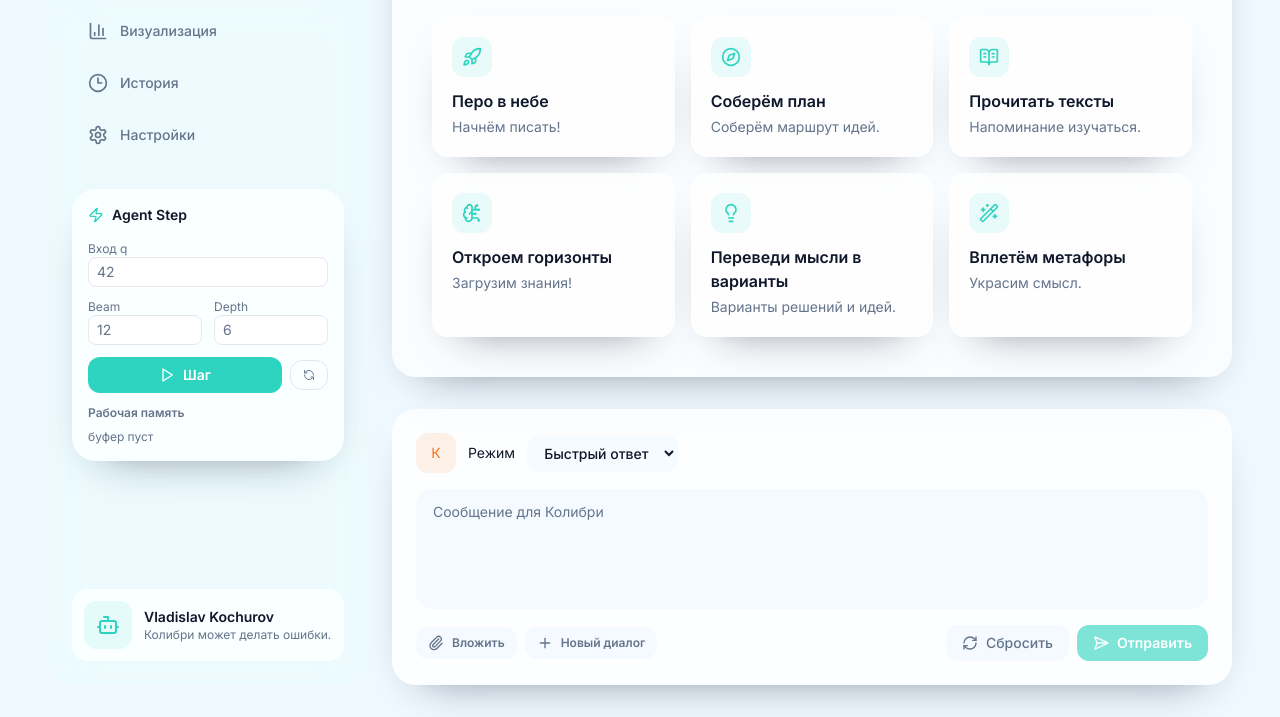
Test: App contextual retrieval › prepends retrieved context to the prompt and surfaces it in the UI
The image size is (1280, 717).
(page scrolled)
Type "Что такое Kolibri?" into the text box with placeholder "Сообщение для Колибри" at (812, 549), box left=416, top=489, right=1208, bottom=609
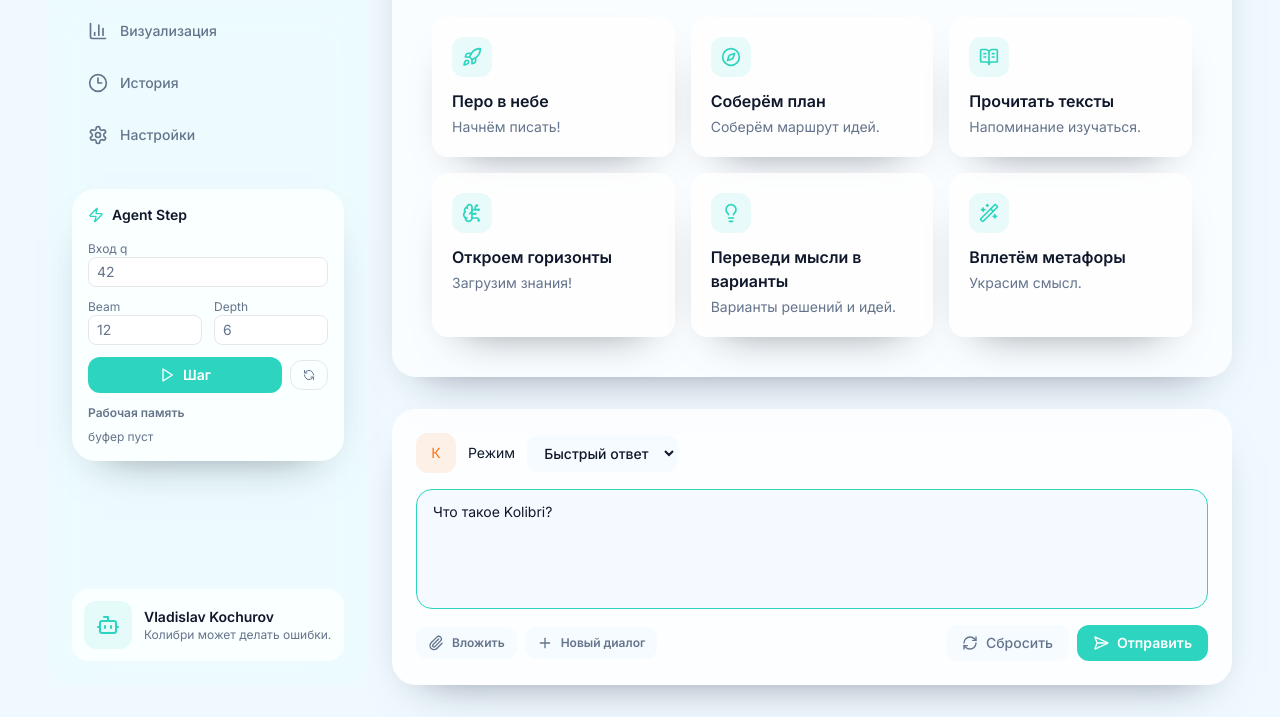
Expected: the button "Отправить" is enabled
Click the button "Отправить" at (1142, 643), box left=1077, top=625, right=1208, bottom=661
(page scrolled)
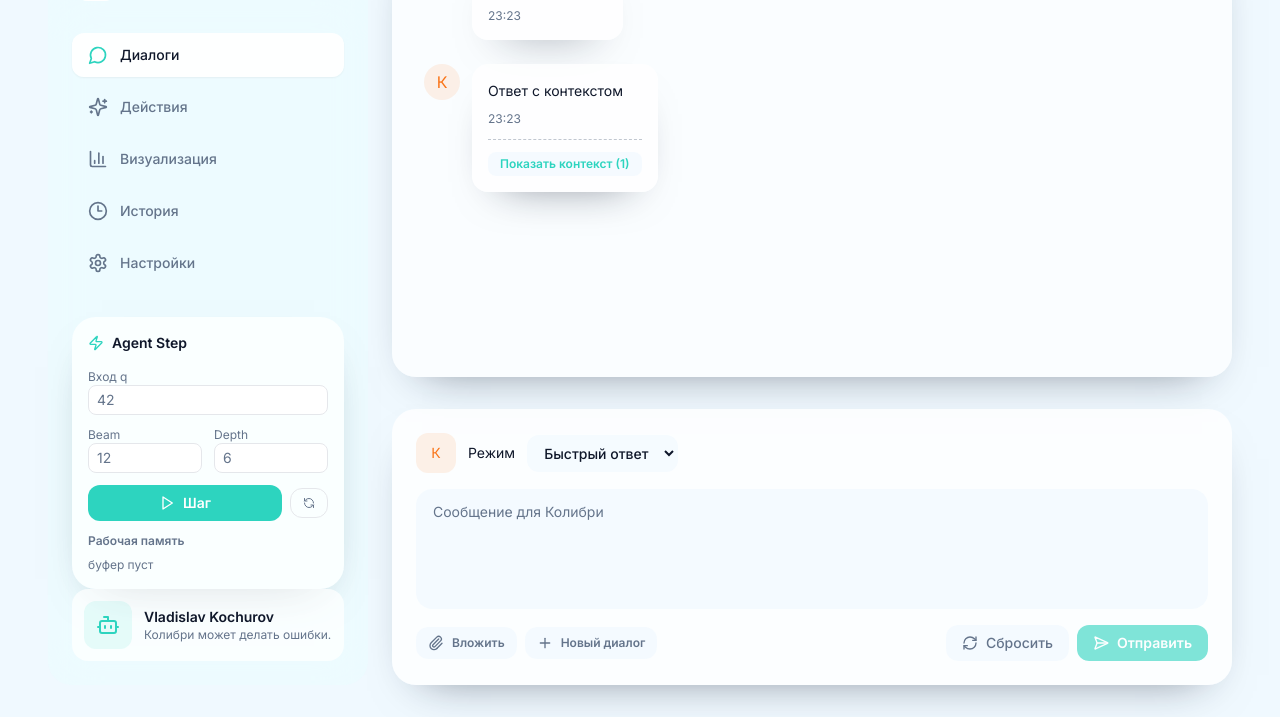
Expected: the text "Ответ с контекстом" is shown, left=488, top=80, right=642, bottom=103
Click the button "Показать контекст (1)" at (565, 164), box left=488, top=152, right=642, bottom=176
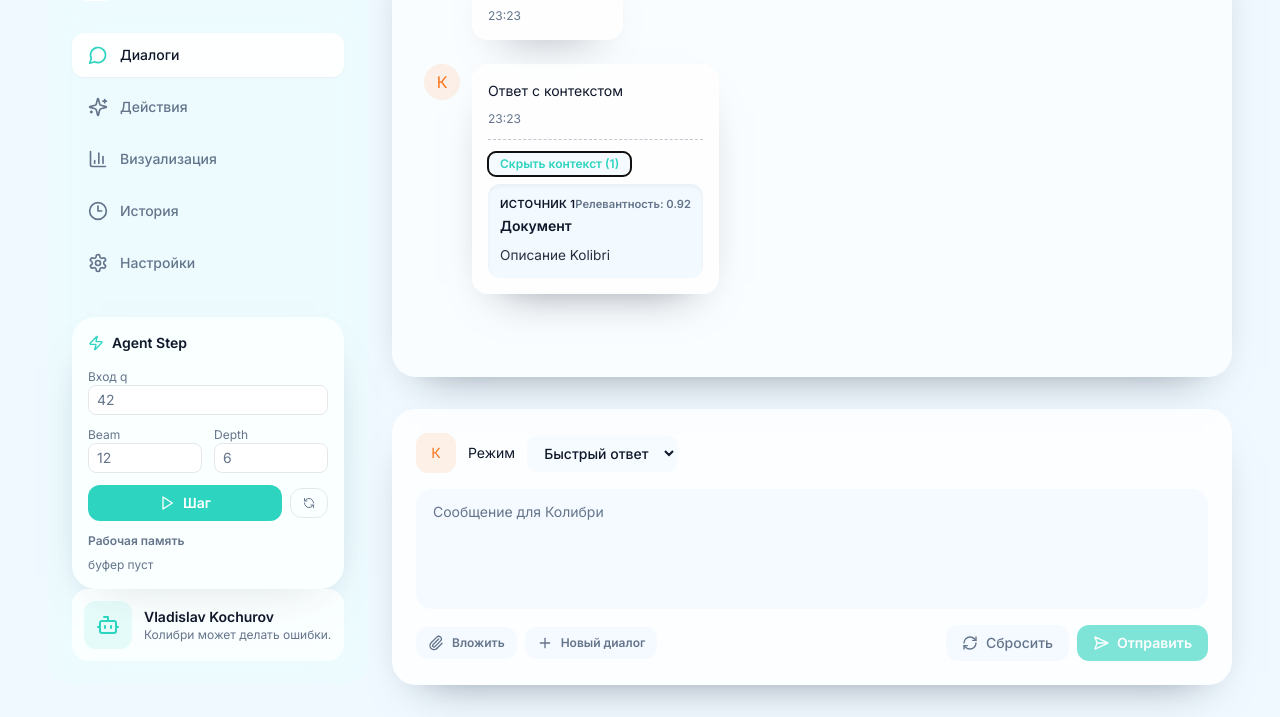
Expected: the text "Документ" is shown, left=500, top=216, right=572, bottom=234
Expected: the text "Описание Kolibri" is shown, left=500, top=246, right=610, bottom=262
